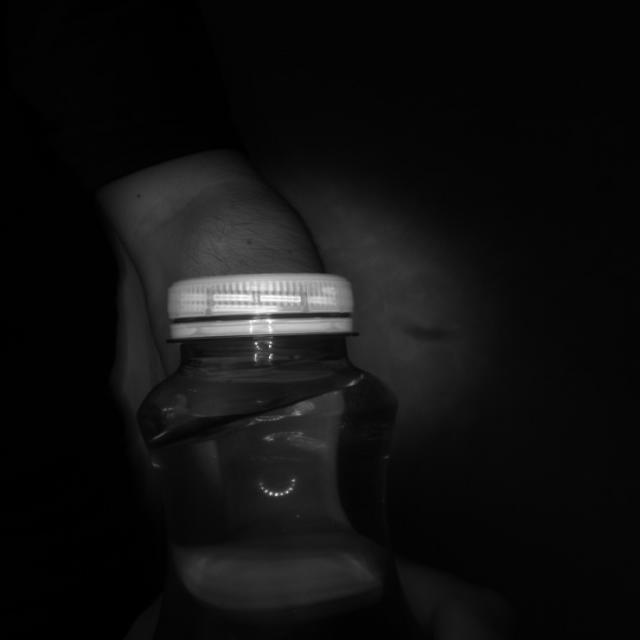Not Good: (169, 273, 354, 341)
